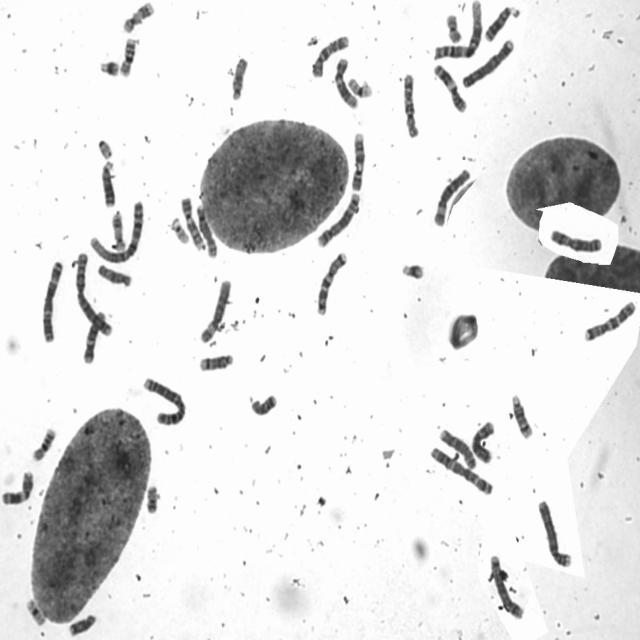A1: (88, 196, 146, 266), (431, 0, 484, 62)
A2: (72, 249, 113, 337), (140, 372, 188, 427)
A3: (427, 442, 494, 497), (39, 257, 64, 345)
B4: (460, 35, 516, 90), (536, 496, 574, 570)
B5: (313, 189, 362, 249), (487, 552, 525, 620)
C10: (310, 31, 350, 79), (401, 70, 420, 138)
C11: (432, 60, 468, 114), (1, 467, 37, 508)
C12: (332, 54, 360, 110), (81, 307, 108, 365)
C6: (431, 165, 472, 228), (198, 276, 232, 344)
C7: (581, 296, 638, 343), (314, 248, 349, 317)
C8: (436, 425, 478, 469), (193, 201, 220, 259)
C9: (178, 194, 207, 252), (349, 129, 366, 192)
D13: (482, 3, 522, 43), (98, 157, 118, 209)
D14: (508, 391, 536, 441), (197, 350, 235, 373)
D15: (95, 261, 133, 288), (229, 53, 249, 102)
E16: (29, 422, 58, 463), (118, 34, 138, 78)
E17: (120, 0, 155, 34), (109, 210, 126, 251)
E18: (65, 610, 98, 637), (248, 390, 279, 418)
F19: (22, 595, 48, 627), (346, 74, 374, 98)
F20: (444, 11, 464, 44), (146, 485, 160, 515)
G21: (398, 257, 426, 281), (97, 55, 121, 77)
G22: (169, 214, 190, 246), (96, 136, 112, 160)
X: (547, 226, 605, 255), (469, 420, 498, 467)
